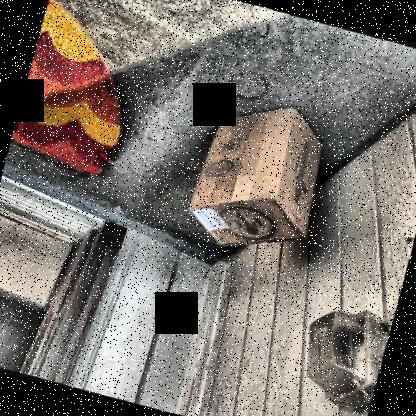no defect parcel: (166, 83, 347, 273)
